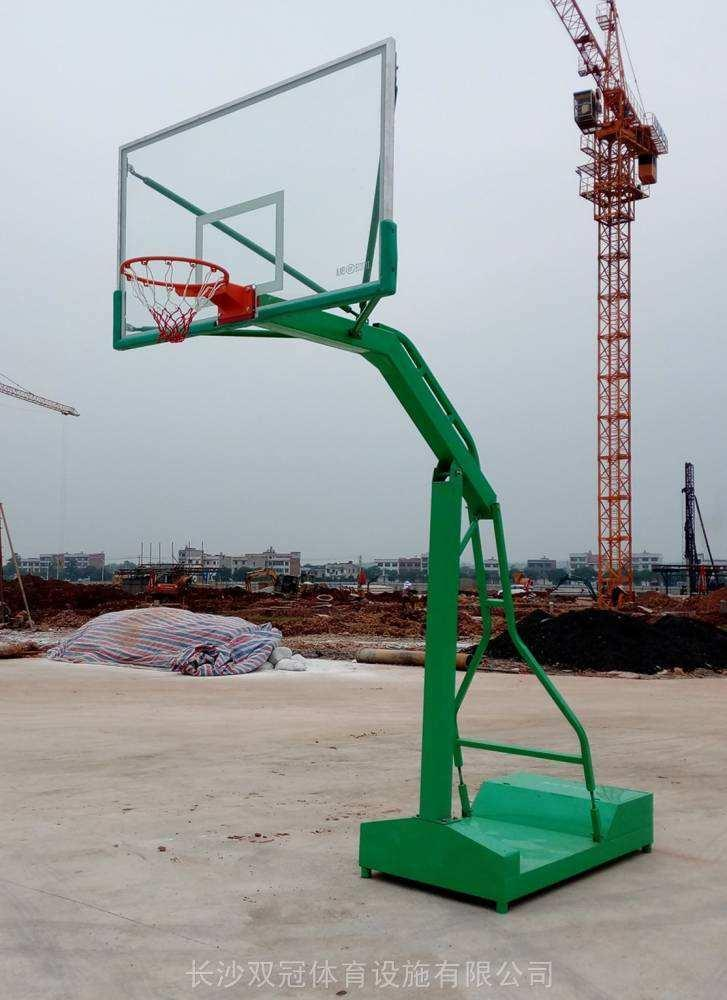rim: (121, 253, 232, 344)
